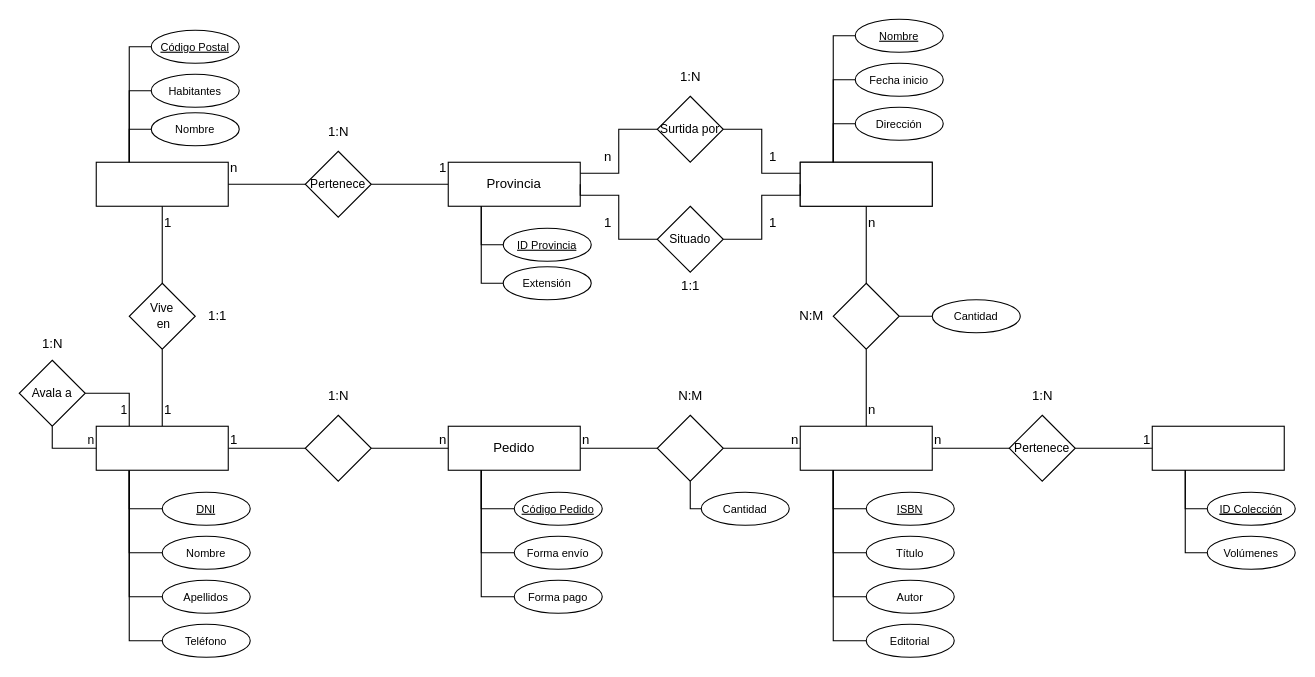
Image size: 1315x677. Some labels were removed from this diagram. Here are the shapes that lost their labels. From the top down, the centre of each, then its label:
point (161, 183): Población
point (865, 183): Almacén
point (865, 315): Tiene stock
point (161, 447): Socio
point (337, 447): Realiza
point (689, 447): Contiene
point (865, 447): Libro
point (1217, 447): Colección
